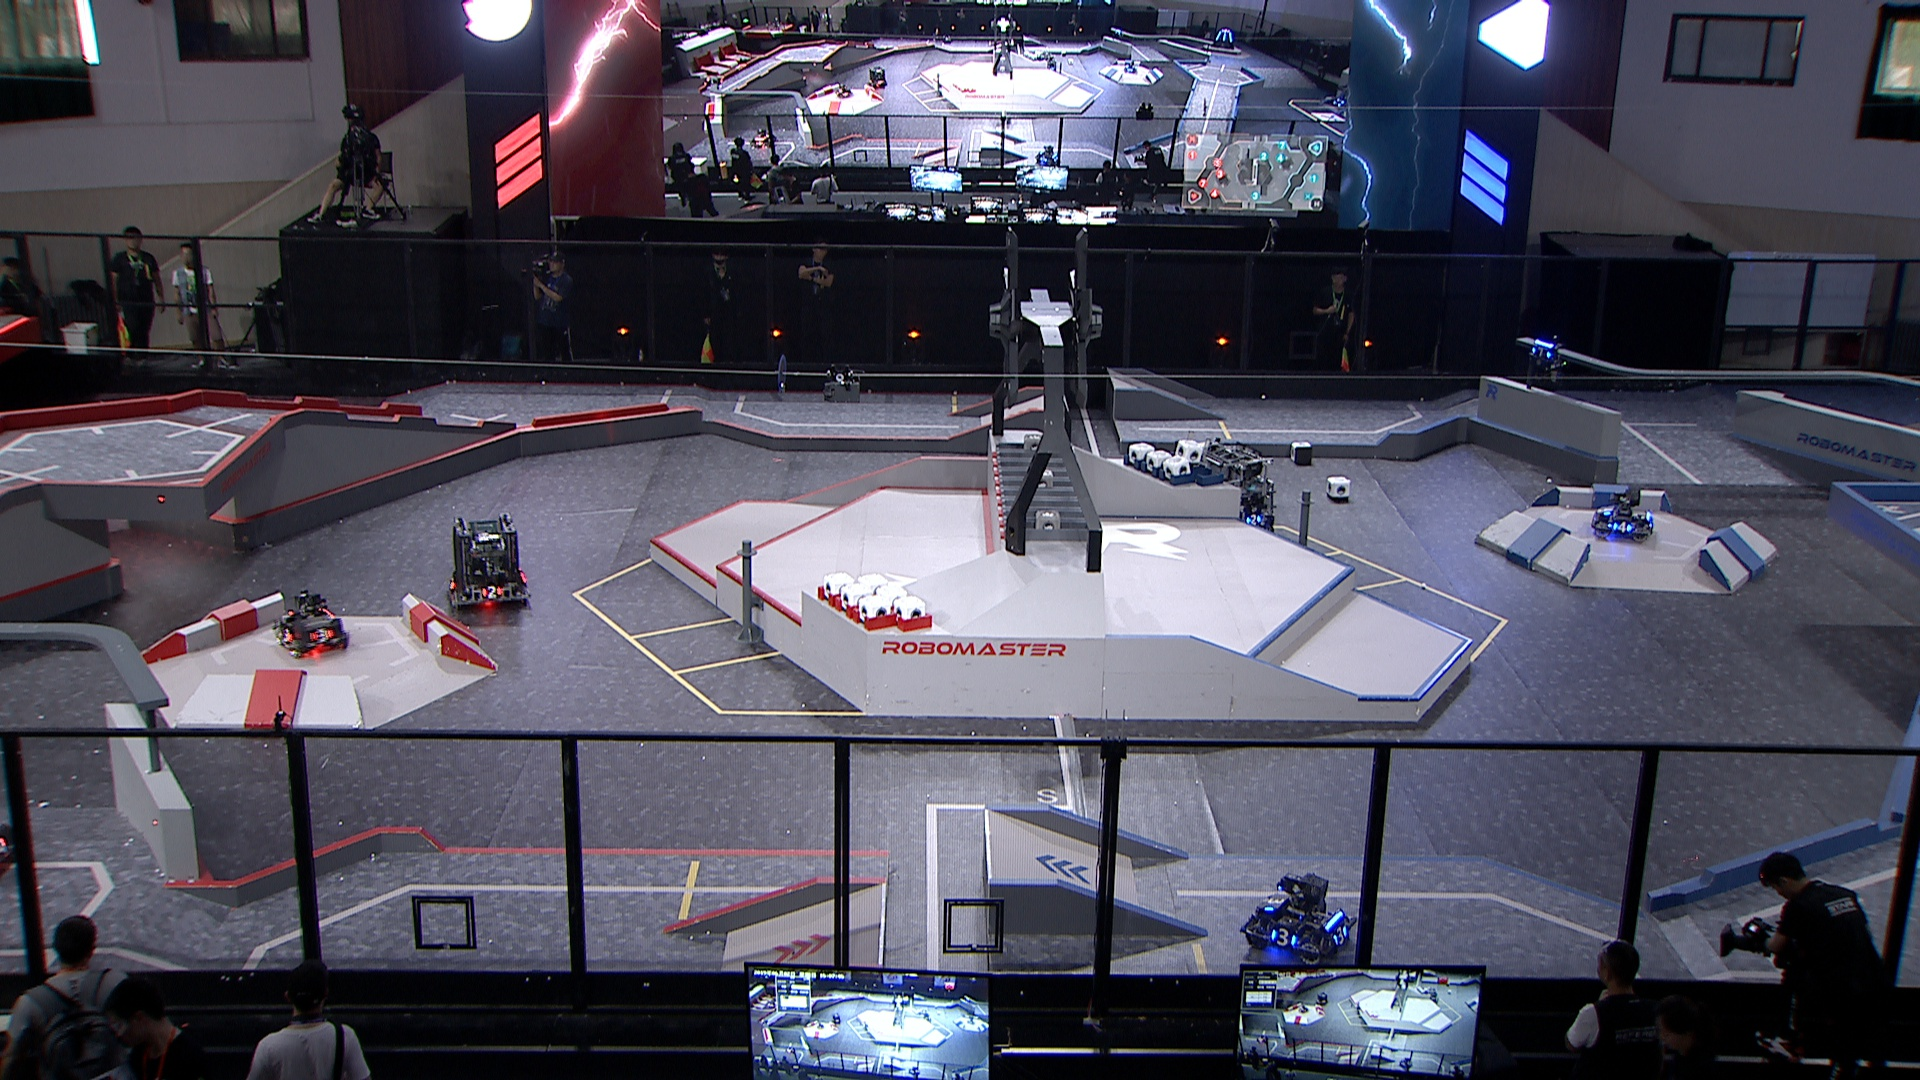armor: (1266, 927, 1298, 949), (1261, 893, 1287, 913), (480, 584, 505, 603), (1329, 924, 1348, 945), (311, 626, 334, 644), (1528, 345, 1552, 360), (1610, 520, 1633, 533), (1244, 513, 1263, 527), (280, 628, 295, 645)
car: (1237, 873, 1361, 967), (443, 509, 533, 613), (1197, 440, 1278, 535), (269, 589, 351, 659), (1592, 488, 1654, 543)
ignore: (1034, 144, 1062, 167), (865, 65, 887, 90), (749, 128, 775, 149), (1211, 29, 1237, 49), (1036, 54, 1058, 73), (1331, 87, 1349, 105), (835, 82, 855, 98), (1124, 59, 1139, 74)
watcher: (1527, 338, 1567, 382)
